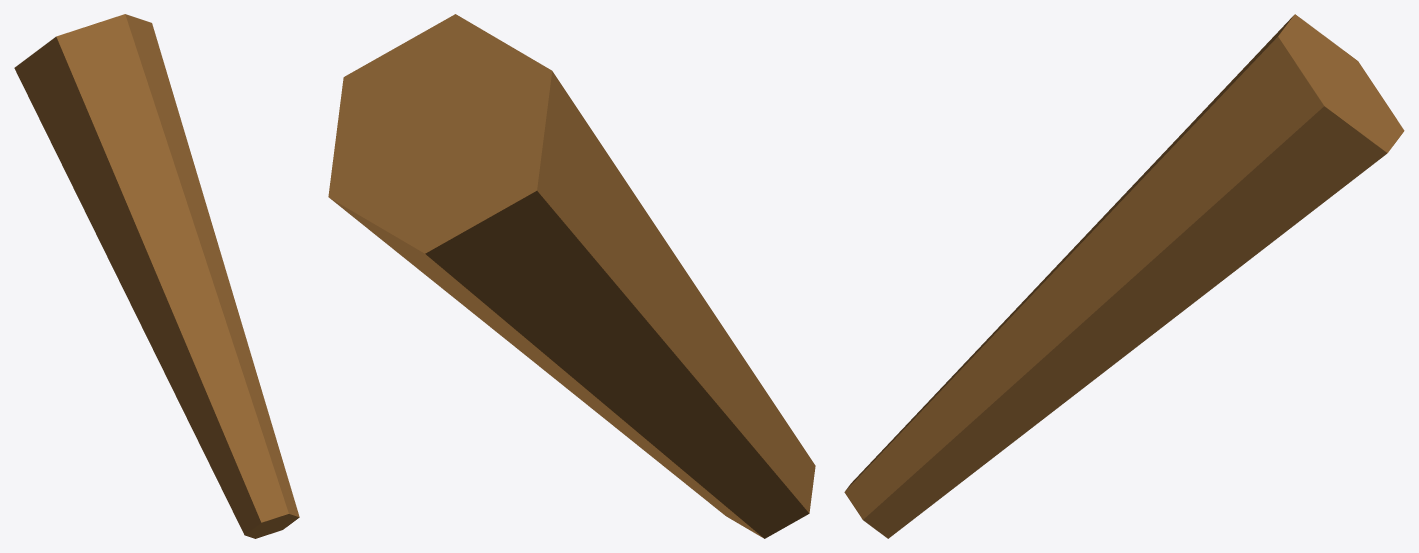
3 views of the same model, side by side, from view 1: azimuth 30°, elevation 25°; view 2: azimuth 150°, elevation 25°; view 3: azimuth 270°, elevation 25° (orthographic). The views are drawn at different scales.
Parts seen in each view (by area): view 1: mount; view 2: mount; view 3: mount.
Boxes of the visible parts, x1,y1,x2,y2 form: mount: [14, 14, 299, 538]; mount: [328, 14, 815, 538]; mount: [844, 14, 1404, 538].
Bounding box in the file's own units: 2.41 × 7.56 × 7.56.
